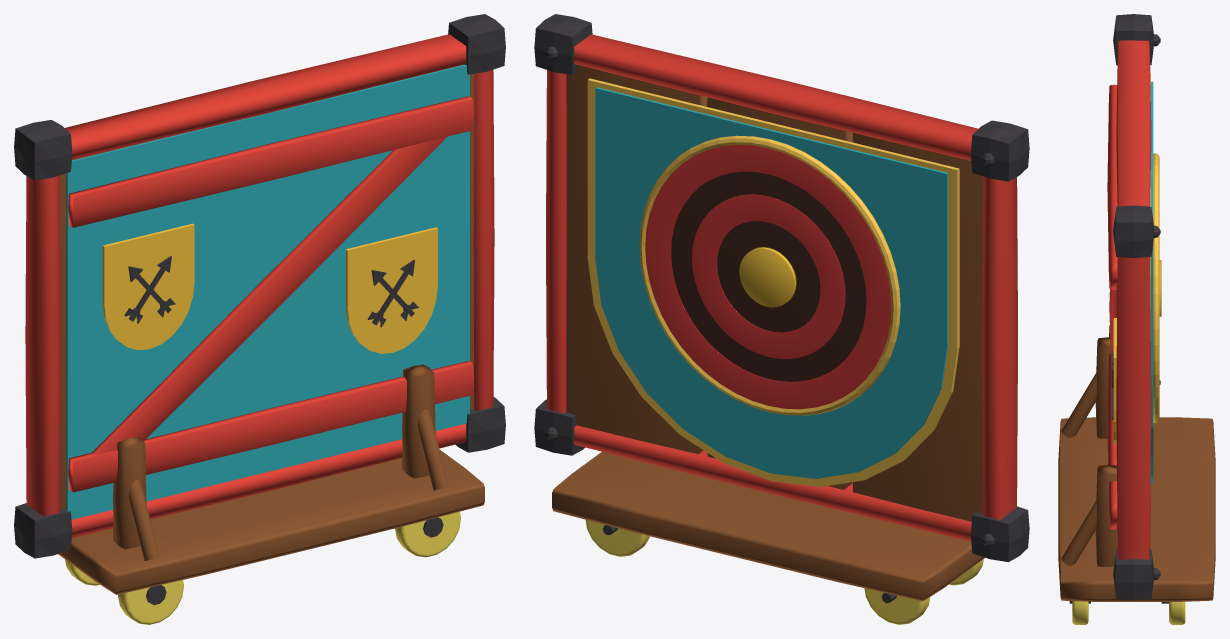
The model's file is TargetBoard.obj.
3 renders of one model, left to right at view 1: azimuth 30°, elevation 25°; view 2: azimuth 150°, elevation 25°; view 3: azimuth 270°, elevation 25°, orthographic. The views are drawn at different scales.
Parts seen in each view (by area): view 1: Paint, Frame, Wood, Crest, Iron, Wheels; view 2: Wood, Paint, Frame, Rings, Face, ShieldRim, Iron, Wheels, Bull; view 3: Wood, Frame, Iron, ShieldRim, Paint, Wheels, Crest.
Boxes of the visible parts, x1,y1,x2,y2 form: Paint: [66, 64, 469, 519]; Frame: [25, 34, 494, 537]; Wood: [58, 64, 484, 594]; Crest: [102, 223, 437, 353]; Iron: [14, 14, 505, 604]; Wheels: [65, 511, 460, 624]; Wood: [552, 64, 984, 601]; Paint: [595, 87, 948, 478]; Frame: [546, 34, 1017, 541]; Rings: [645, 144, 891, 409]; Face: [671, 171, 866, 381]; ShieldRim: [587, 78, 959, 486]; Iron: [534, 14, 1029, 603]; Wheels: [585, 520, 983, 624]; Bull: [739, 247, 796, 307]; Wood: [1058, 337, 1215, 601]; Frame: [1107, 40, 1151, 559]; Iron: [1069, 14, 1168, 603]; ShieldRim: [1150, 73, 1159, 493]; Paint: [1151, 81, 1153, 484]; Wheels: [1072, 601, 1185, 624]; Crest: [1113, 318, 1116, 444].
Bounding box in the file's own units: 7.9 × 7.79 × 2.5.
